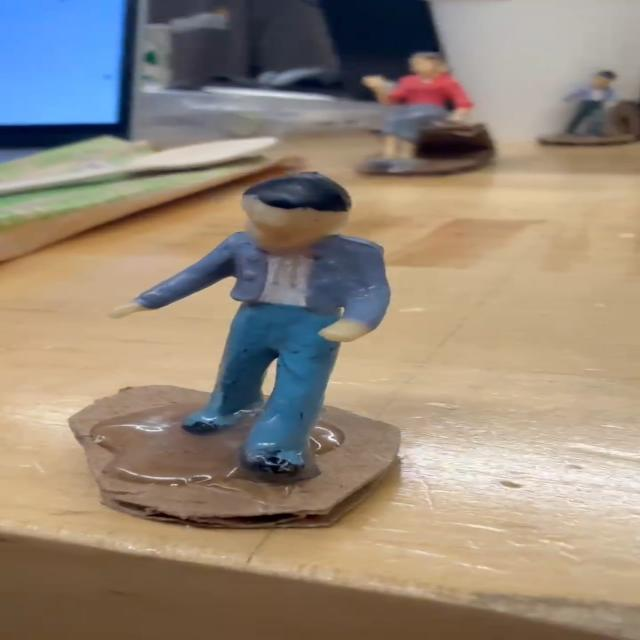Authorized: (85, 179, 556, 532)
